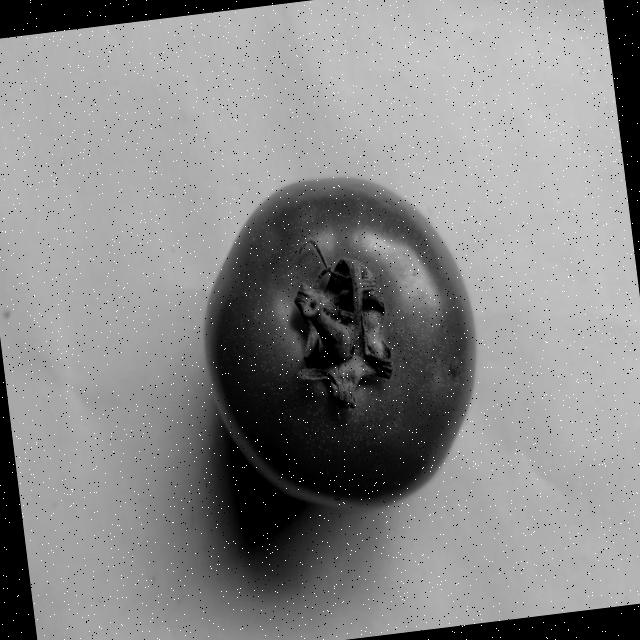Ripe: (182, 155, 500, 532)
